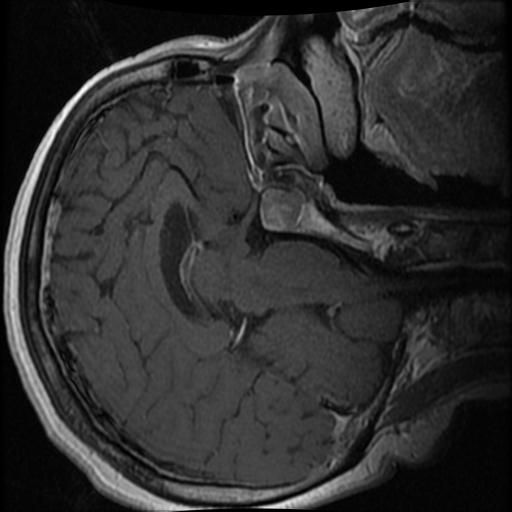pituitary tumour: (257, 188, 304, 233)
